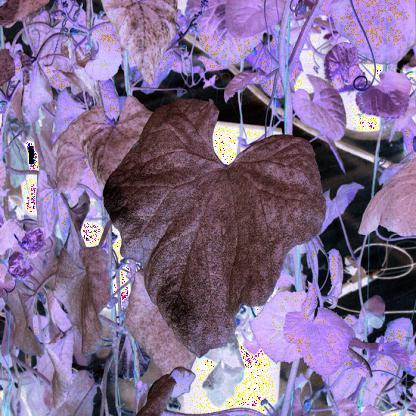Squash Powdery mildew leaf: (102, 101, 326, 365), (38, 190, 117, 364), (79, 96, 162, 188), (100, 0, 177, 88)
